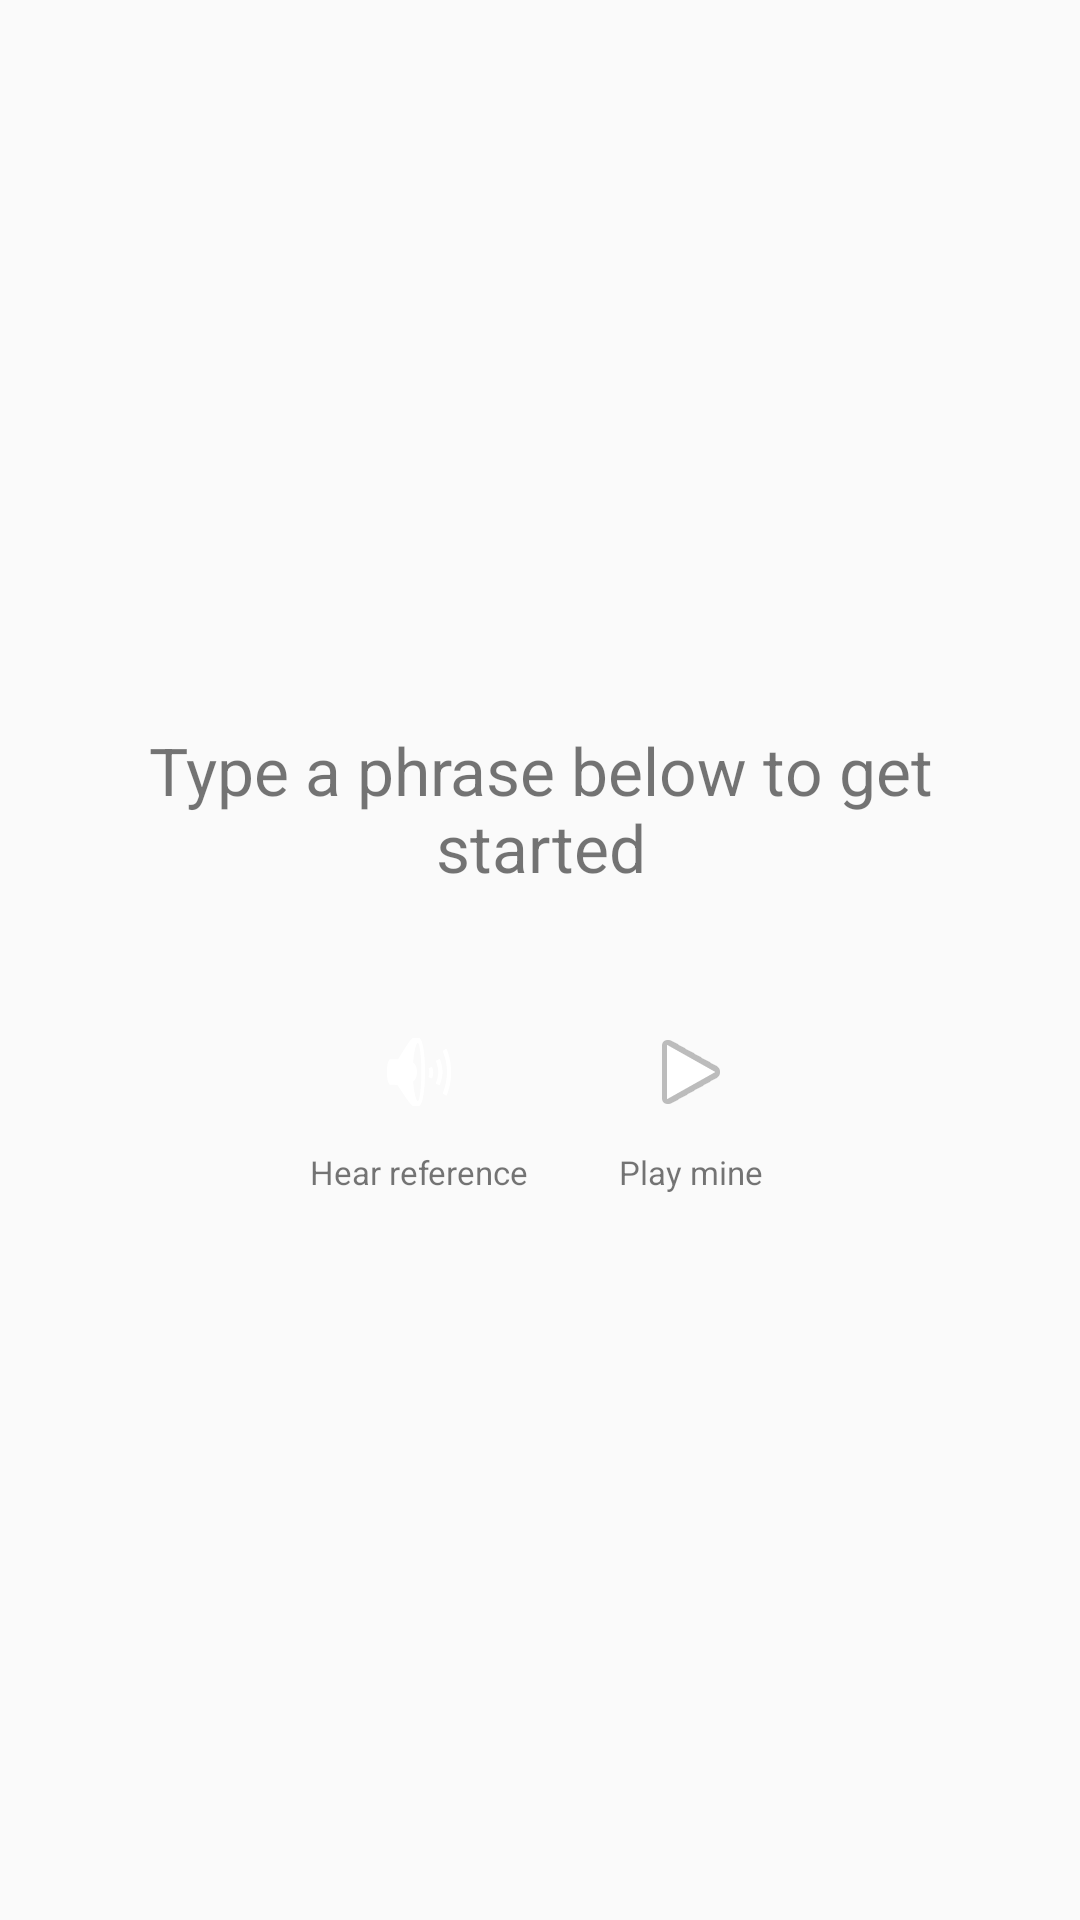

Named icons in this screenshot (1080 × 1920) and their bounding boxes, box(x1, y1, x2, y2):
Play my last attempt: box(662, 1040, 720, 1104)
